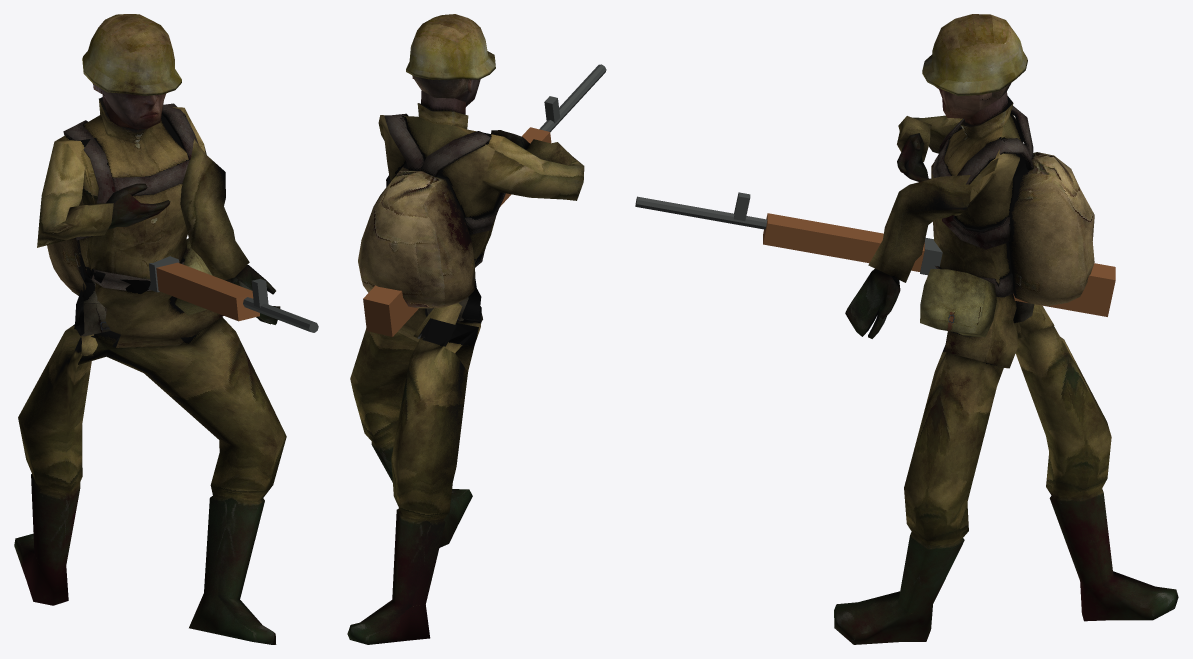
Rendered from soviet_ww2_soldier_walk_01.glb.
3 renders of one model, left to right at view 1: azimuth 30°, elevation 25°; view 2: azimuth 150°, elevation 25°; view 3: azimuth 270°, elevation 25°, orthographic. The views are drawn at different scales.
Visible parts, largest first — view 1: final_Static, SovietRifle_Generated; view 2: final_Static, SovietRifle_Generated; view 3: final_Static, SovietRifle_Generated.
Boxes of the visible parts, x1,y1,x2,y2 form: final_Static: (14,14,286,644); SovietRifle_Generated: (148,256,318,332); final_Static: (347,14,584,644); SovietRifle_Generated: (363,64,606,336); final_Static: (834,14,1178,644); SovietRifle_Generated: (635,192,1115,316).
Bounding box in the file's own units: 0.7122 × 1.7 × 1.38.
Materials: 3 (1 with a texture image).
